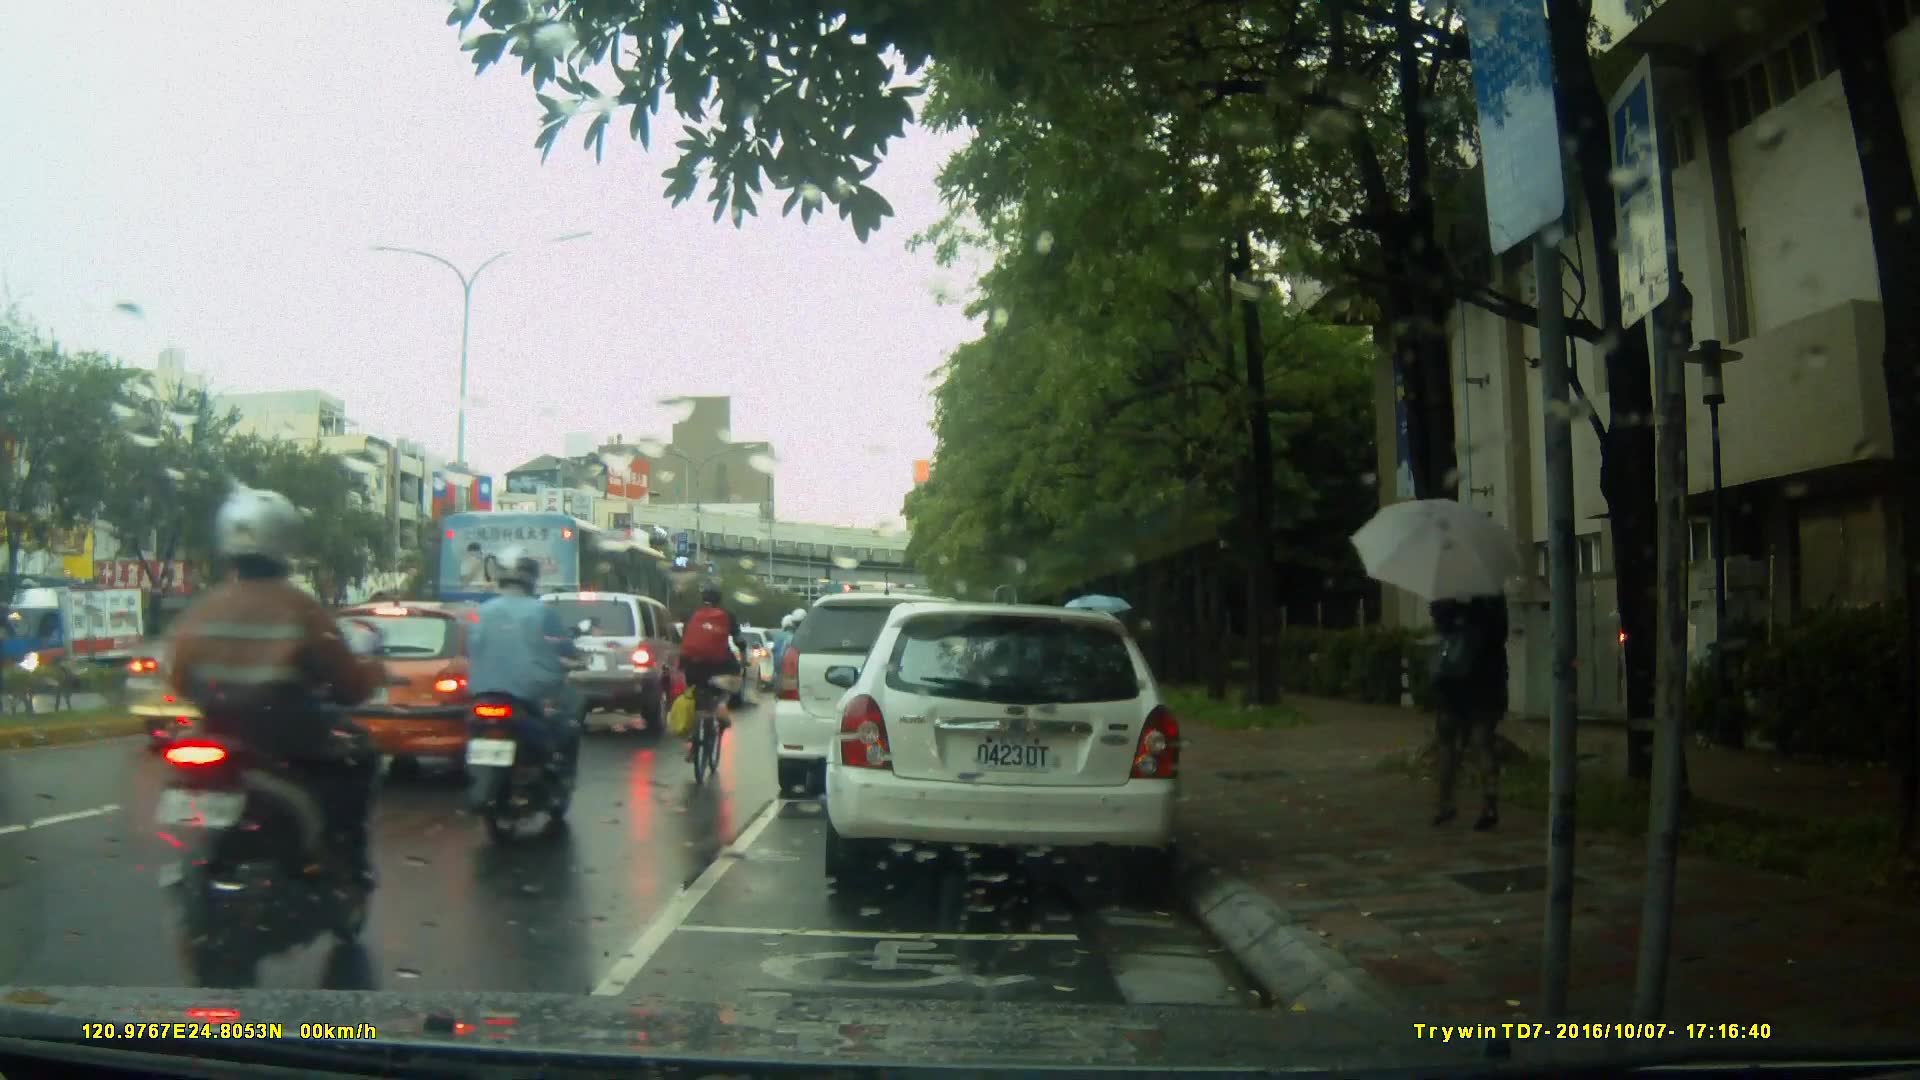pedestrian: (1415, 535, 1542, 841)
rider: (170, 488, 395, 991), (461, 548, 586, 842), (664, 589, 749, 787)
vehicle: (835, 594, 1194, 898), (271, 599, 570, 794), (415, 501, 688, 686), (776, 590, 1026, 784), (117, 601, 373, 752), (507, 588, 700, 728), (1, 586, 157, 697)
